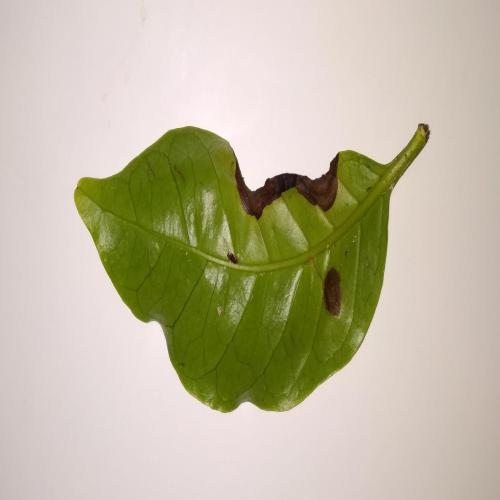miner: (230, 146, 339, 220)
